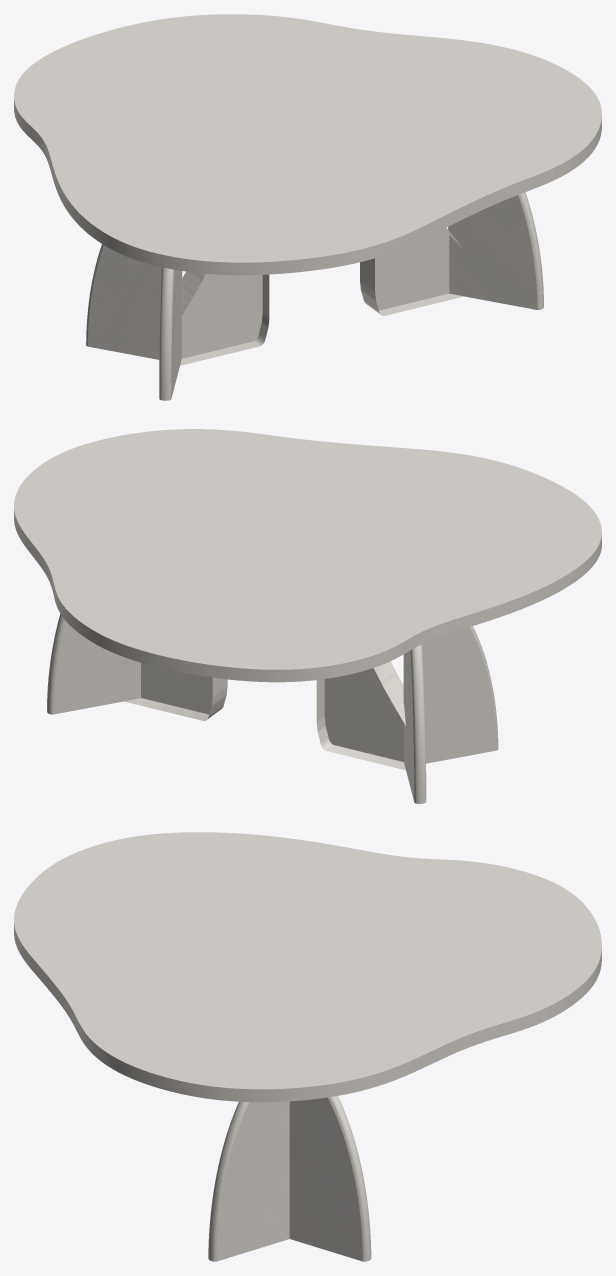
Rendered from pearlwhite_topone_standard_plane.glb.
The picture shows the model from 3 angles, top to bottom: view 1: azimuth 30°, elevation 25°; view 2: azimuth 150°, elevation 25°; view 3: azimuth 270°, elevation 25°; orthographic projection. The views are drawn at different scales.
Parts seen in each view (by area): view 1: standard_topone, plane_singleright2, plane_single1, plane_singleleft1, plane_single2, plane_singleright1; view 2: standard_topone, plane_singleright1, plane_single1, plane_singleleft2, plane_single2, plane_singleleft1; view 3: standard_topone, plane_singleleft2, plane_singleright2.
Part boxes in pixels (bbox=[...]): standard_topone: bbox=[14, 14, 601, 275]; plane_singleright2: bbox=[448, 192, 543, 309]; plane_single1: bbox=[180, 271, 269, 365]; plane_singleleft1: bbox=[86, 244, 182, 359]; plane_single2: bbox=[360, 228, 463, 315]; plane_singleright1: bbox=[159, 267, 181, 400]; standard_topone: bbox=[14, 429, 601, 682]; plane_singleright1: bbox=[403, 626, 498, 763]; plane_single1: bbox=[316, 661, 405, 770]; plane_singleleft2: bbox=[47, 614, 140, 714]; plane_single2: bbox=[124, 663, 227, 720]; plane_singleleft1: bbox=[404, 644, 426, 803]; standard_topone: bbox=[14, 832, 601, 1102]; plane_singleleft2: bbox=[289, 1096, 371, 1261]; plane_singleright2: bbox=[208, 1101, 289, 1261].
Size of the model in its own units: 6.83 by 2.5 by 6.6.
1 material, 1 textured.
